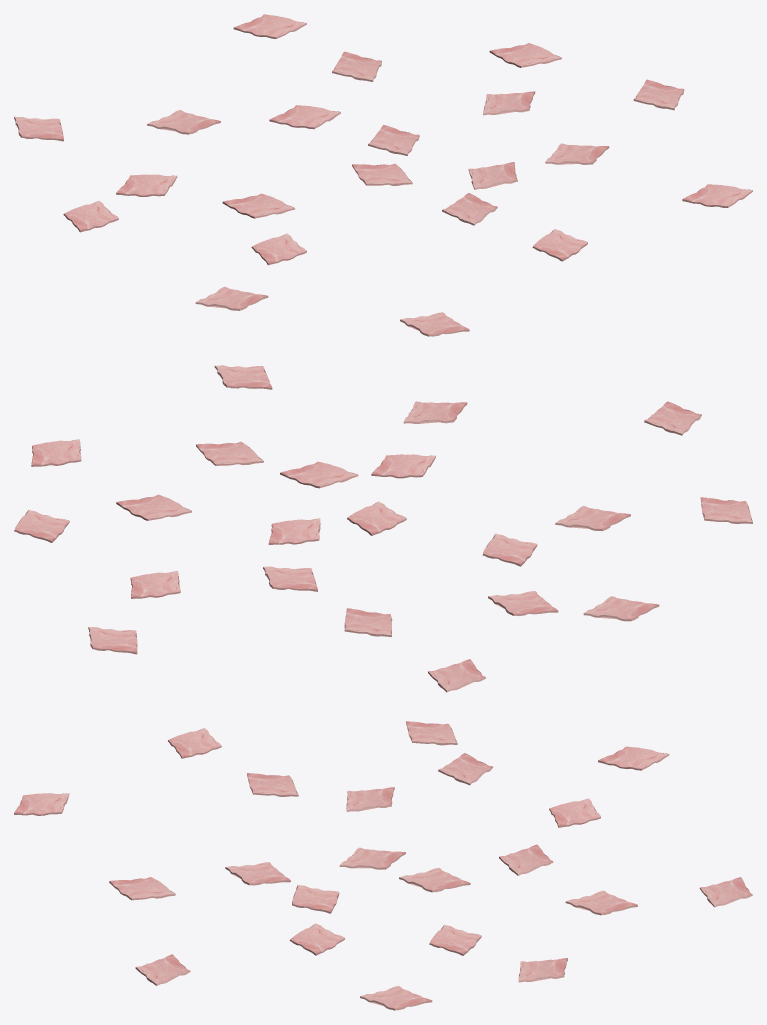
Rendered from ham_op_pizza.glb.
The picture shows the model from 3 angles, top to bottom: view 1: azimuth 30°, elevation 25°; view 2: azimuth 150°, elevation 25°; view 3: azimuth 270°, elevation 25°; orthographic projection. The views are drawn at different scales.
Parts seen in each view (by area): view 1: Cube.024, Cube.026, Cube.032, Cube.025, Cube.037, Cube.029, Cube.017, Cube.019, Cube.028, Cube.018, Cube.027, Cube.030 (+9 smaller); view 2: Cube.033, Cube.023, Cube.020, Cube.036, Cube.022, Cube.035, Cube.021, Cube.017, Cube.030, Cube.028, Cube.027, Cube.019 (+9 smaller); view 3: Cube.034, Cube.031, Cube.018, Cube.027, Cube.030, Cube.019, Cube.028, Cube.021, Cube.036, Cube.022, Cube.017, Cube.035 (+9 smaller).
Part boxes in pixels (x1,y1,x2,y2): Cube.024: [269, 105, 340, 129]; Cube.026: [233, 14, 306, 38]; Cube.032: [682, 184, 752, 207]; Cube.025: [489, 43, 561, 67]; Cube.037: [222, 193, 295, 218]; Cube.029: [116, 174, 177, 196]; Cube.017: [352, 163, 412, 185]; Cube.019: [251, 233, 306, 265]; Cube.028: [63, 200, 118, 232]; Cube.018: [532, 229, 587, 261]; Cube.027: [147, 110, 220, 134]; Cube.030: [195, 286, 268, 310]; Cube.033: [280, 461, 358, 488]; Cube.023: [116, 494, 191, 520]; Cube.020: [371, 454, 435, 478]; Cube.036: [268, 518, 320, 544]; Cube.022: [31, 439, 81, 466]; Cube.035: [130, 571, 180, 598]; Cube.021: [196, 441, 263, 465]; Cube.017: [347, 501, 406, 535]; Cube.030: [700, 497, 752, 523]; Cube.028: [583, 596, 659, 621]; Cube.027: [344, 608, 392, 636]; Cube.019: [555, 506, 630, 531]; Cube.034: [598, 746, 669, 770]; Cube.031: [14, 793, 69, 815]; Cube.018: [109, 877, 175, 900]; Cube.027: [549, 798, 600, 827]; Cube.030: [168, 728, 221, 758]; Cube.019: [247, 773, 298, 796]; Cube.028: [406, 721, 457, 745]; Cube.021: [289, 923, 344, 955]; Cube.036: [399, 867, 470, 892]; Cube.022: [360, 986, 432, 1010]; Cube.017: [339, 847, 405, 869]; Cube.035: [565, 890, 637, 915].
Size of the model in its own units: 2.13 by 0.0151 by 2.31.
21 materials, 21 textured.
